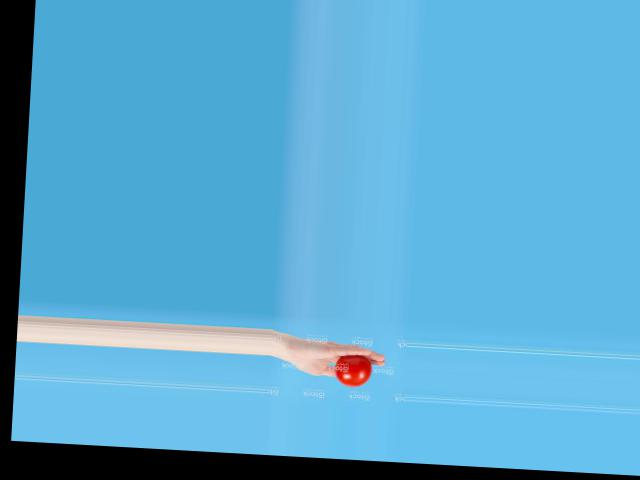tomato: (334, 354, 372, 387)
